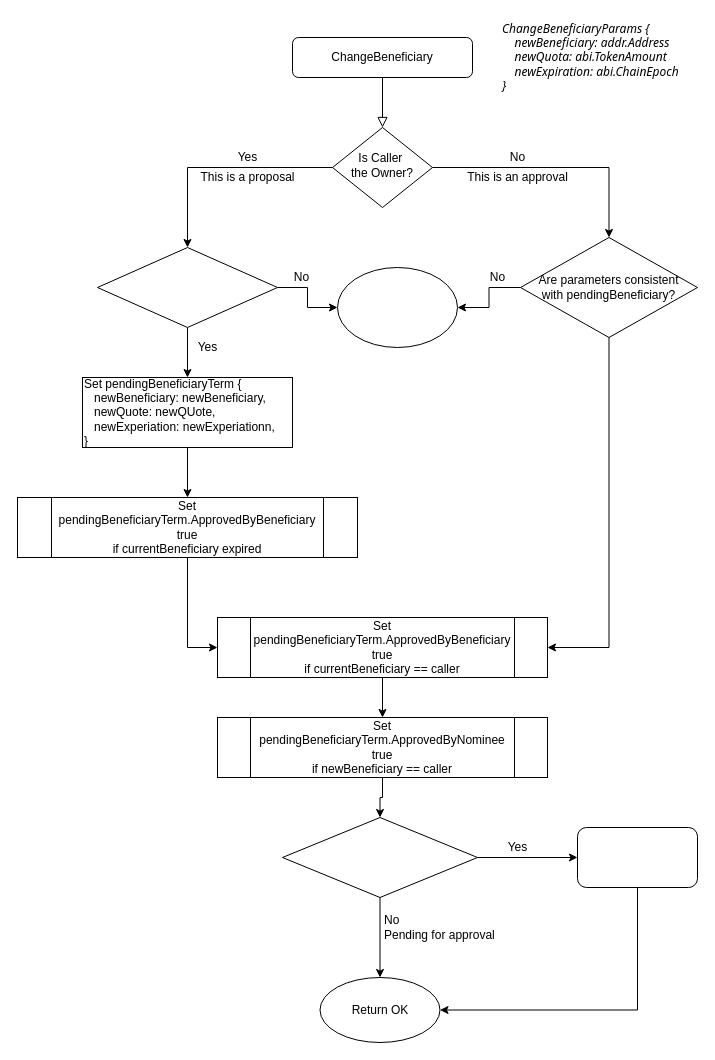
Some shapes in this 715 by 1060 pixel diagram are drawn without their labels. The shapes that lost their labels are listed below. From the top down, each one's centre as x and y in pixels, then its label:
At (x=187, y=287): "Parameters Valid?".
At (x=397, y=307): "Return Error".
At (x=380, y=857): "Are both Beneficiary & Nominee approved?".
At (x=637, y=857): "Change Beneficiary & BeneficiaryTerm".
